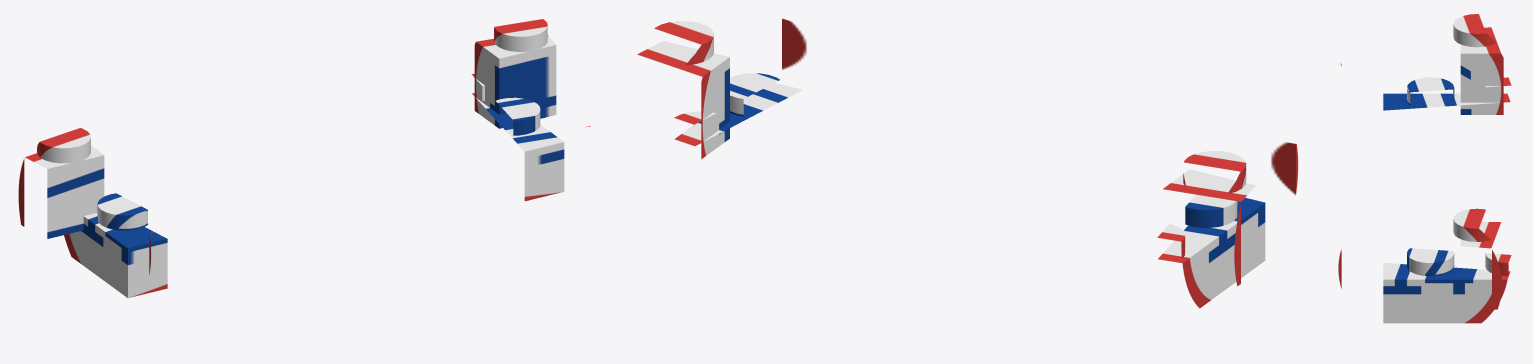
The model's file is DECO_09.glb.
3 renders of one model, left to right at view 1: azimuth 30°, elevation 25°; view 2: azimuth 150°, elevation 25°; view 3: azimuth 270°, elevation 25°, orthographic. The views are drawn at different scales.
Visible parts, largest first — view 1: DECO_09; view 2: DECO_09; view 3: DECO_09.
Part boxes in pixels (x1,y1,x2,y2): DECO_09: [18, 19, 590, 297]; DECO_09: [637, 18, 1298, 308]; DECO_09: [1338, 14, 1511, 323].
Size of the model in its own units: 1 by 0.2861 by 0.3582.
1 material, 1 textured.
